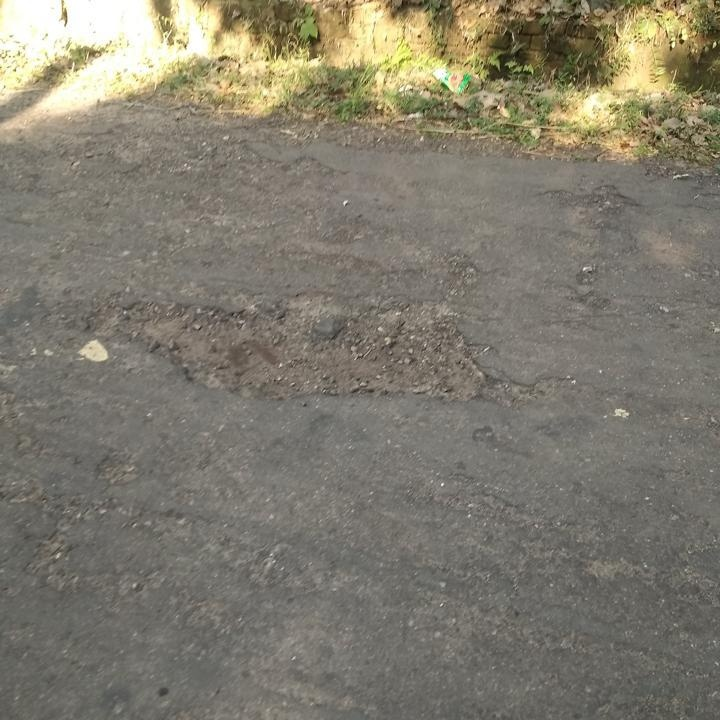pothole: (83, 289, 497, 411), (541, 181, 639, 209)
